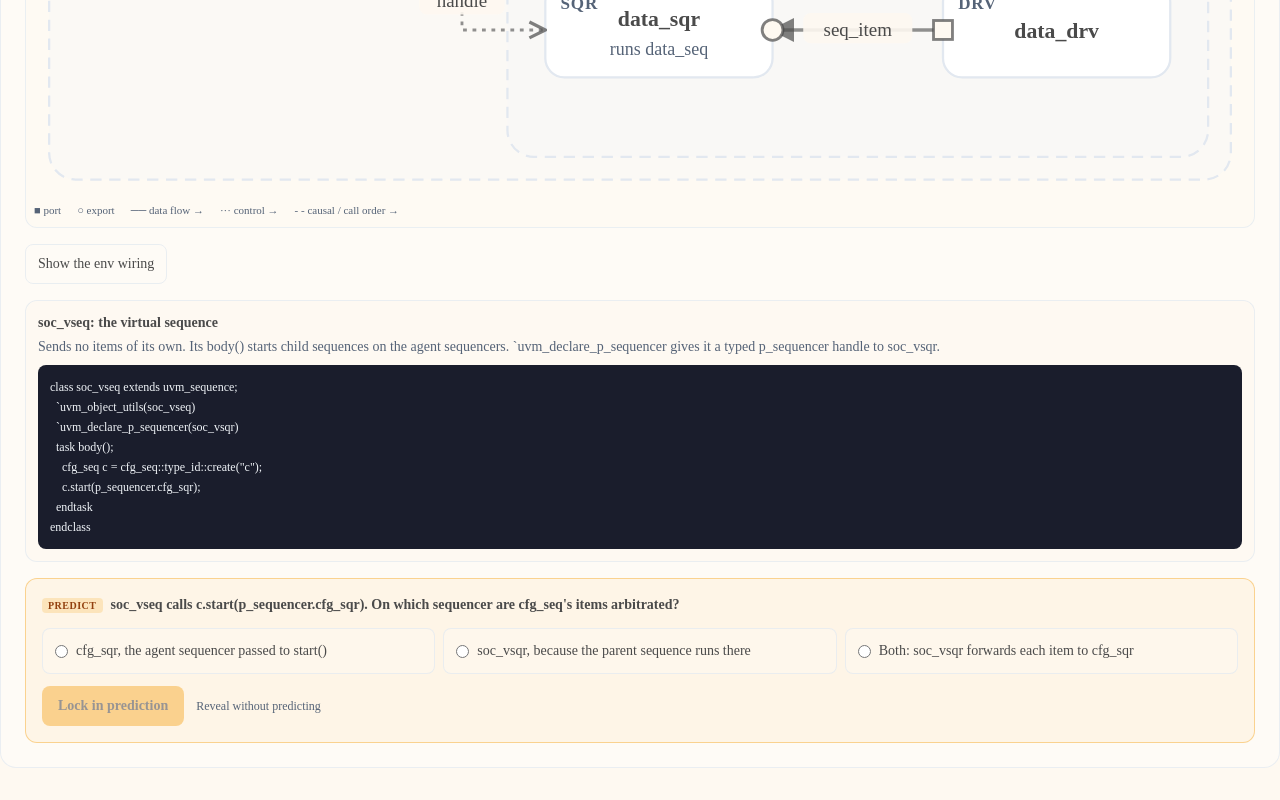
Test: UvmVirtualSequencerDiagram › prediction: a child runs on the sequencer passed to start()
(page scrolled)
Click the radio button labelled "soc_vsqr, because the parent sequence runs there" at (463, 651), box [456,645,469,658]
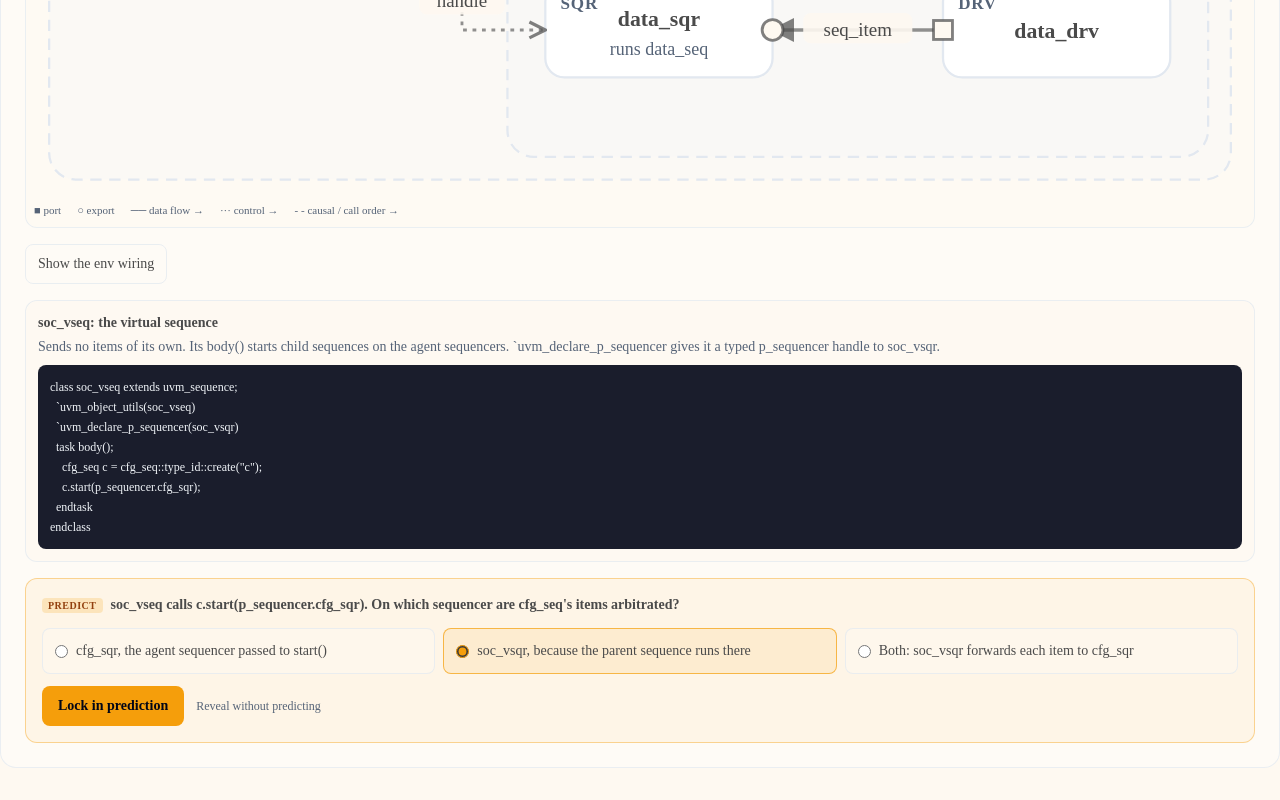
Click the button "Lock in prediction" at (113, 706), box [42,686,184,726]
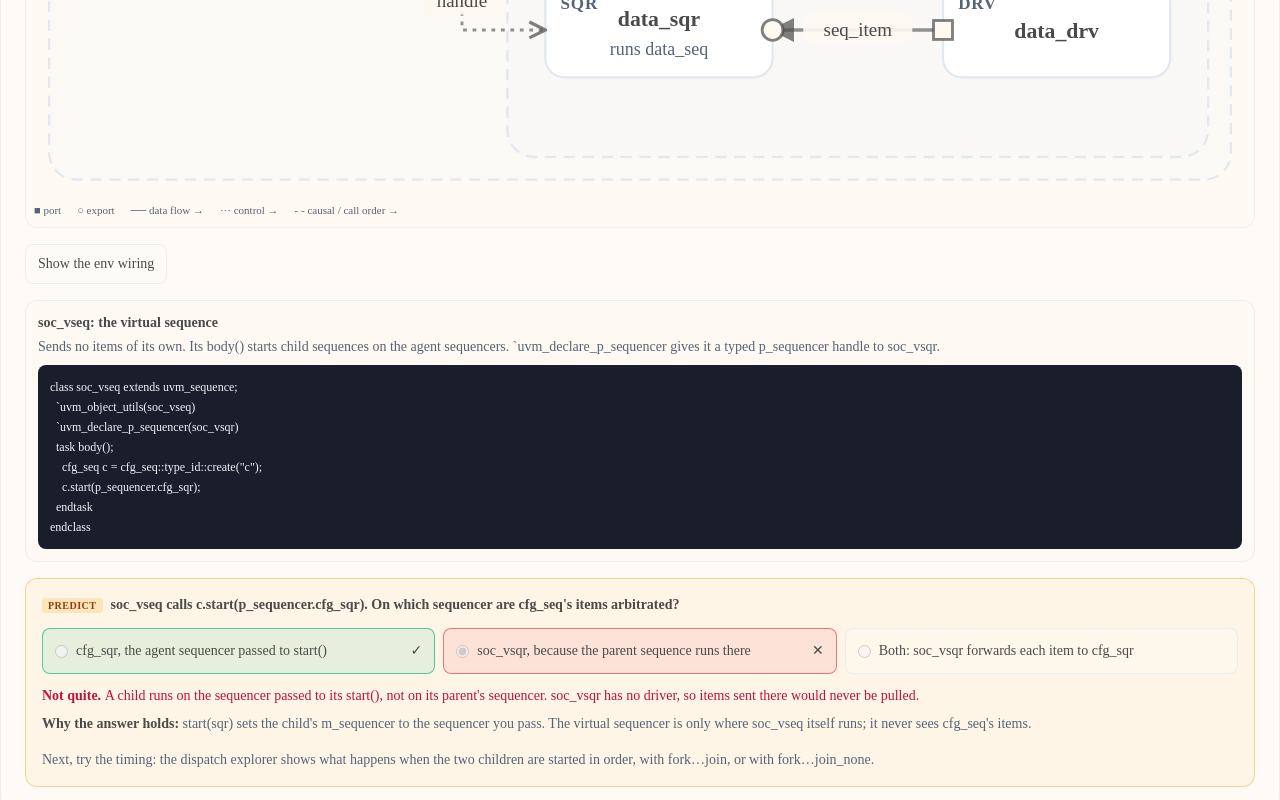
Now the text "A child runs on the sequencer passed to its start()" is shown, box [105,688,919,703]
